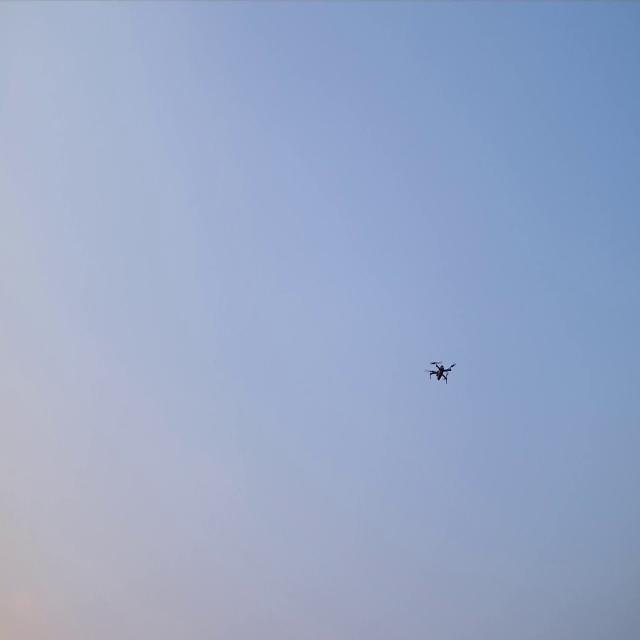UAV: (422, 358, 457, 385)
